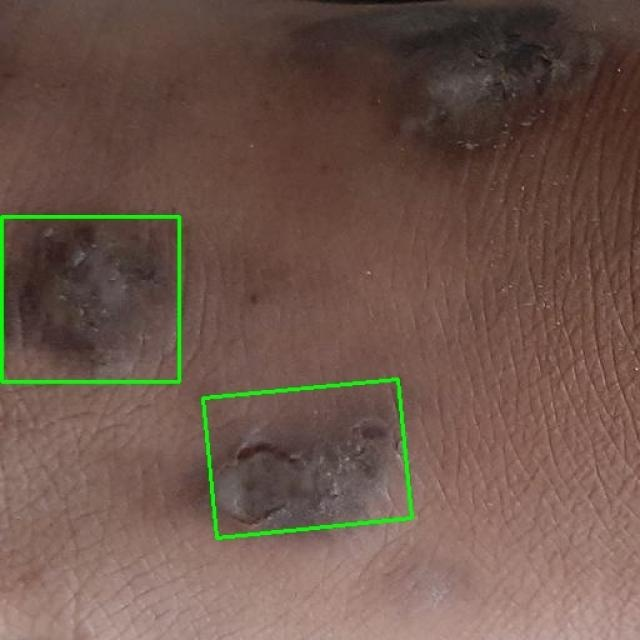Contact Dermatitis: (203, 380, 411, 538), (1, 216, 179, 381)
